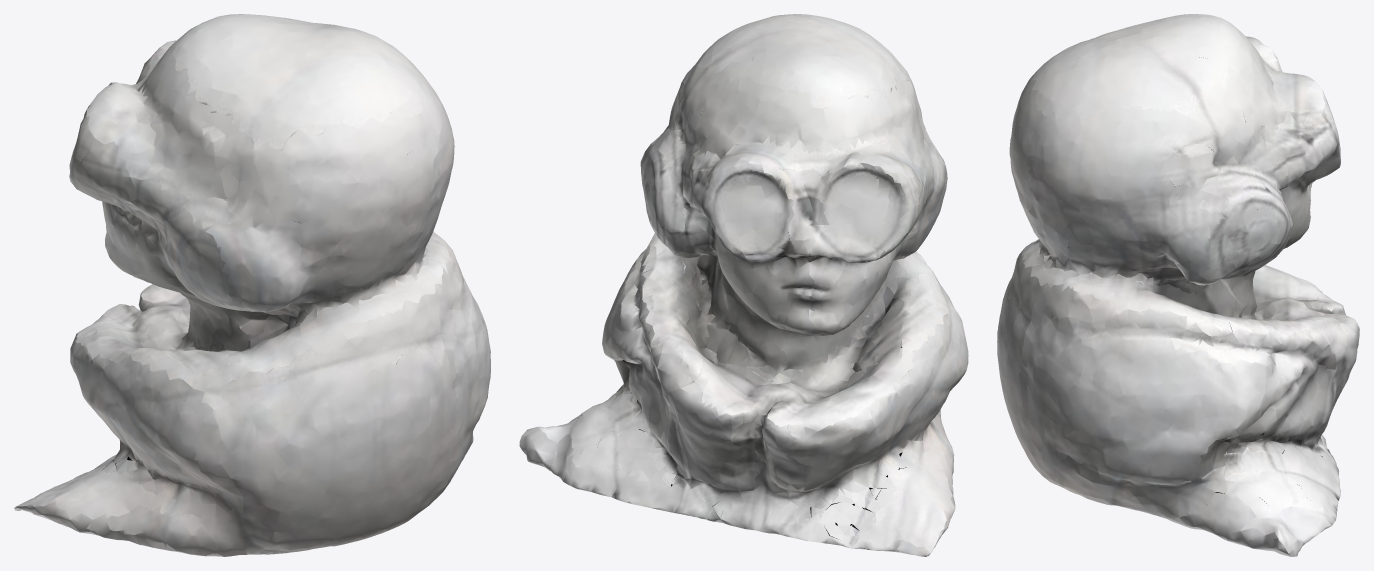
3 renders of one model, left to right at view 1: azimuth 30°, elevation 25°; view 2: azimuth 150°, elevation 25°; view 3: azimuth 270°, elevation 25°, orthographic. The views are drawn at different scales.
Parts seen in each view (by area): view 1: world; view 2: world; view 3: world.
Boxes of the visible parts, x1=… form: world: x1=14, y1=14, x2=490, y2=556; world: x1=519, y1=14, x2=968, y2=556; world: x1=997, y1=14, x2=1359, y2=556.
Size of the model in its own units: 0.8358 by 0.8762 by 0.6468.
Materials: 1 (1 with a texture image).
